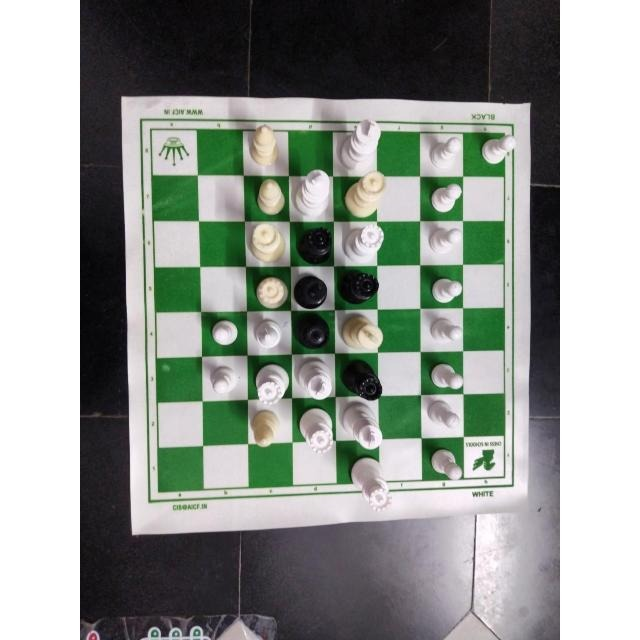black-king: (291, 270, 331, 312)
black-queen: (336, 355, 390, 402), (337, 267, 385, 309), (294, 226, 340, 269), (291, 313, 335, 355)
white-bishop: (241, 122, 283, 174), (246, 407, 288, 453), (247, 177, 289, 221), (248, 316, 286, 351)
white-king: (336, 401, 386, 454), (340, 117, 384, 173), (336, 311, 386, 355), (290, 170, 332, 222), (292, 356, 334, 408)
white-pawn: (423, 445, 464, 486), (474, 131, 517, 169), (202, 362, 245, 400), (425, 312, 467, 348), (425, 364, 469, 398), (426, 267, 464, 306), (423, 226, 465, 261), (427, 138, 465, 176), (426, 180, 467, 215), (424, 399, 464, 434), (207, 312, 241, 352)
white-queen: (344, 458, 396, 514), (343, 170, 388, 219), (295, 409, 339, 459), (337, 221, 387, 265), (246, 221, 292, 265), (252, 364, 293, 408), (246, 270, 289, 310)
